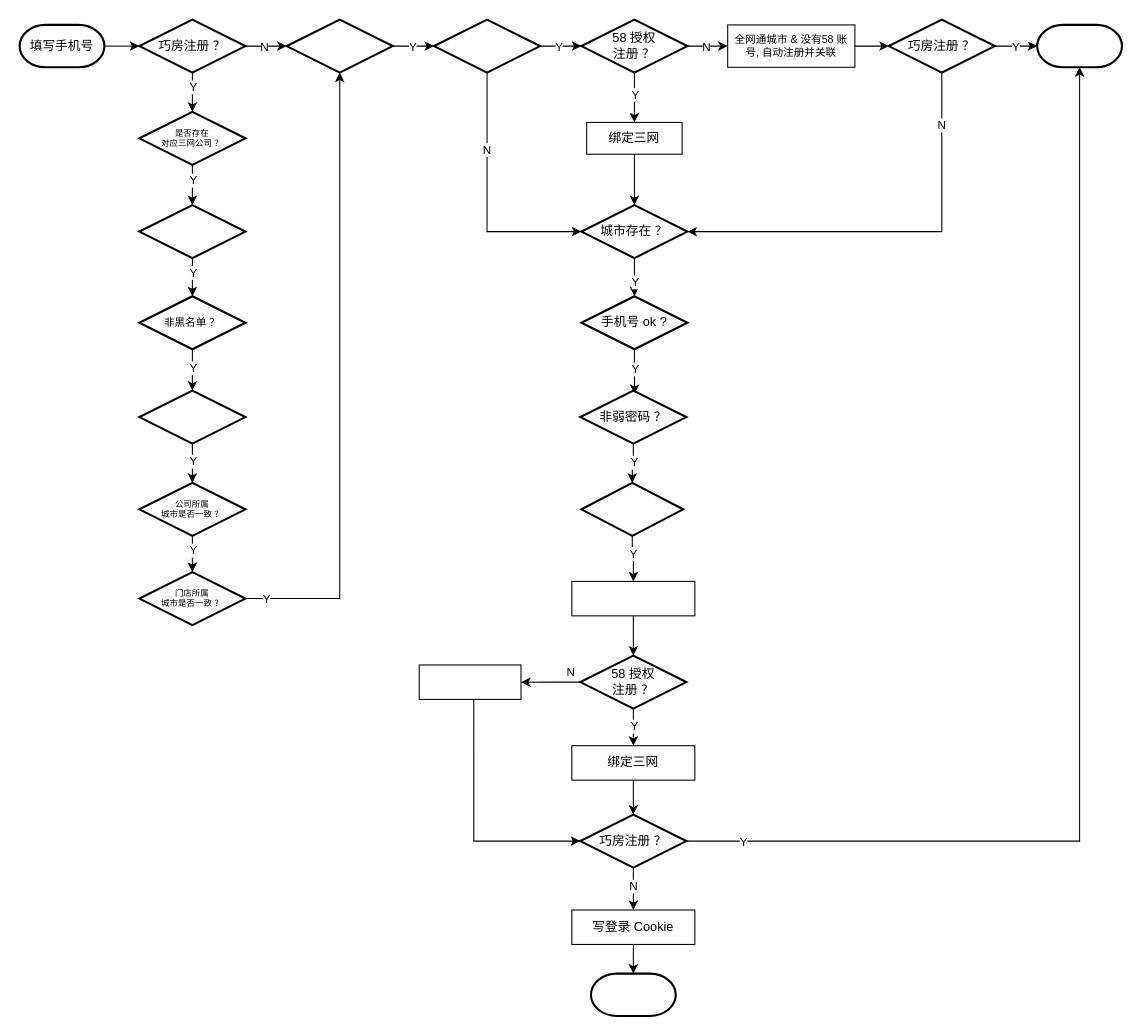
Some shapes in this 1141 by 1035 pixel diagram are drawn without their labels. Here are the shapes that lost their labels. From the top down, the centre of each, then its label:
At point 339,45: "云账号注册 ？".
At point 486,45: "云账号 已存在 ？".
At point 1079,45: "跳转 绑定结果页".
At point 192,231: "是否战投公司 ？".
At point 192,416: "非虚拟公司 ？".
At point 632,508: "验证码 ok ？".
At point 633,598: "调用注册接口".
At point 469,681: "自动注册58账号".
At point 632,994: "跳转填写 个人信息".
